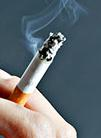smoke: (0, 31, 66, 129)
